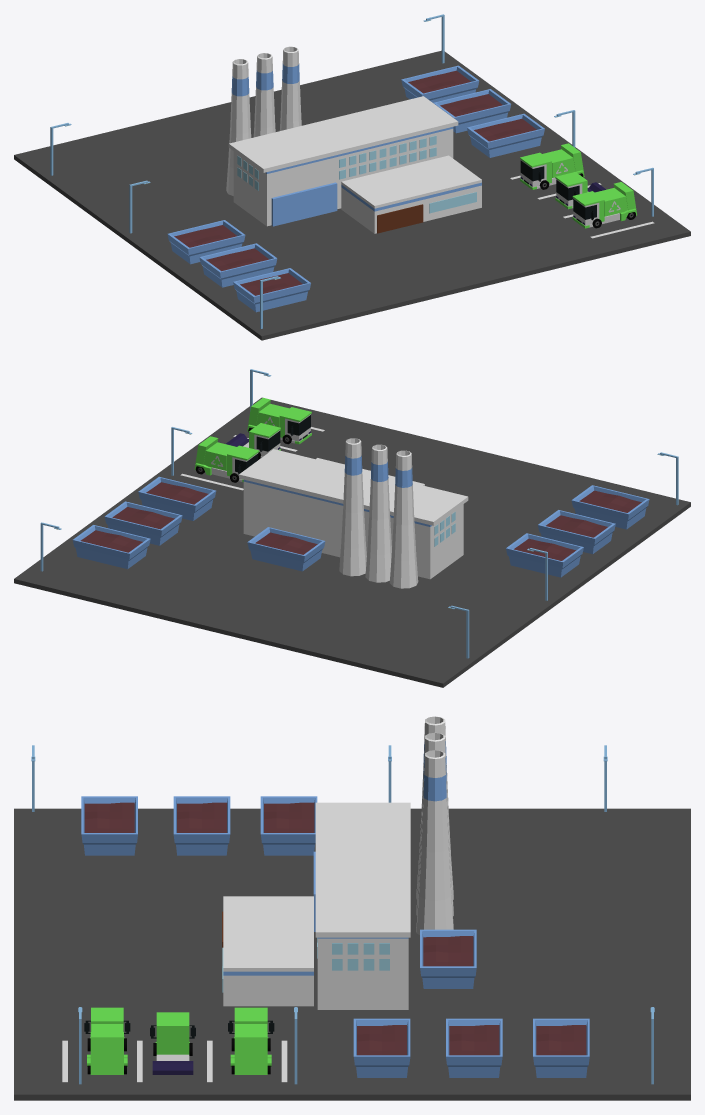
File: waste_incineration_center.fbx
3 renders of one model, top to bottom at view 1: azimuth 30°, elevation 25°; view 2: azimuth 150°, elevation 25°; view 3: azimuth 270°, elevation 25°, orthographic. The views are drawn at different scales.
Visible parts, largest first — view 1: parking_ground.001, building, trash.016, trash.014, trash.013, recycling_truck.002, trash.015, recycling_truck.004, trash.018, trash.017, recycling_truck.003; view 2: parking_ground.001, building, trash.018, trash.012, trash.015, trash.013, trash.016, trash.017, trash.014, recycling_truck.004, recycling_truck.002, recycling_truck.003; view 3: parking_ground.001, building, trash.016, trash.014, trash.012, trash.018, trash.017, trash.013, trash.015, recycling_truck.004, recycling_truck.002, recycling_truck.003 (+1 smaller).
Boxes of the visible parts, left/top/right/bottom form: parking_ground.001: left=14, top=50, right=690, bottom=340; building: left=226, top=46, right=481, bottom=233; trash.016: left=467, top=113, right=544, bottom=157; trash.014: left=199, top=243, right=277, bottom=287; trash.013: left=233, top=268, right=310, bottom=312; recycling_truck.002: left=572, top=182, right=636, bottom=228; trash.015: left=167, top=220, right=245, bottom=264; recycling_truck.004: left=520, top=143, right=584, bottom=189; trash.018: left=401, top=65, right=479, bottom=102; trash.017: left=433, top=89, right=511, bottom=133; recycling_truck.003: left=555, top=172, right=605, bottom=209; parking_ground.001: left=14, top=397, right=690, bottom=687; building: left=239, top=438, right=468, bottom=588; trash.018: left=72, top=525, right=150, bottom=569; trash.012: left=247, top=527, right=325, bottom=571; trash.015: left=506, top=533, right=583, bottom=577; trash.013: left=571, top=485, right=649, bottom=529; trash.016: left=138, top=476, right=216, bottom=520; trash.017: left=104, top=501, right=182, bottom=545; trash.014: left=538, top=510, right=615, bottom=554; recycling_truck.004: left=194, top=436, right=259, bottom=482; recycling_truck.002: left=247, top=397, right=311, bottom=444; recycling_truck.003: left=226, top=423, right=280, bottom=459; parking_ground.001: left=14, top=808, right=690, bottom=1100; building: left=222, top=716, right=453, bottom=1009; trash.016: left=353, top=1018, right=410, bottom=1077; trash.014: left=173, top=796, right=230, bottom=855; trash.012: left=420, top=929, right=476, bottom=988; trash.018: left=533, top=1018, right=589, bottom=1077; trash.017: left=446, top=1018, right=502, bottom=1077; trash.013: left=81, top=796, right=137, bottom=855; trash.015: left=260, top=796, right=317, bottom=855; recycling_truck.004: left=228, top=1007, right=274, bottom=1074; recycling_truck.002: left=84, top=1007, right=130, bottom=1074; recycling_truck.003: left=150, top=1012, right=195, bottom=1074.
Bounding box in the file's own units: 51.99 × 51.99 × 15.47.
